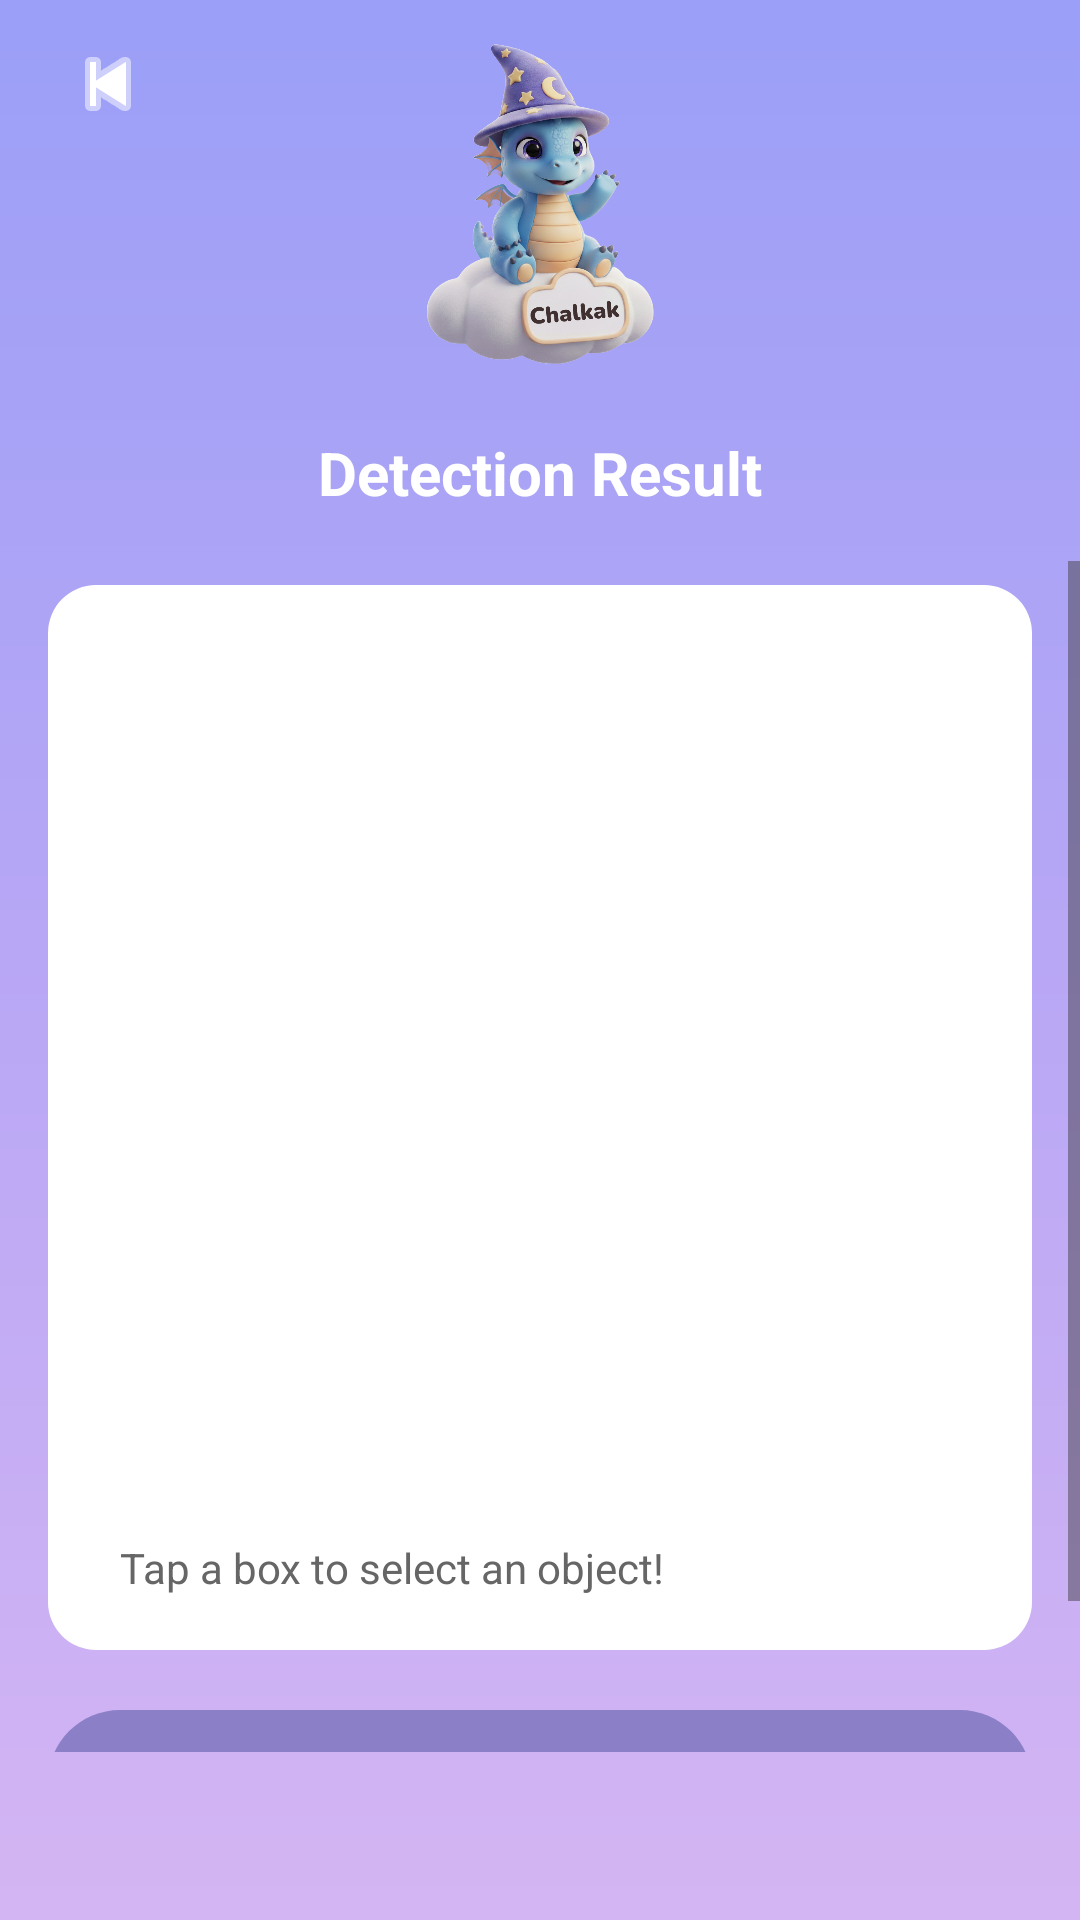

Where icons sit on this 1080x1920 app screen, as [x1=x1, y1=y1, x2=x2, y2=y2]:
Back: [x1=85, y1=57, x2=131, y2=111]
Mascot: [x1=427, y1=44, x2=654, y2=364]
